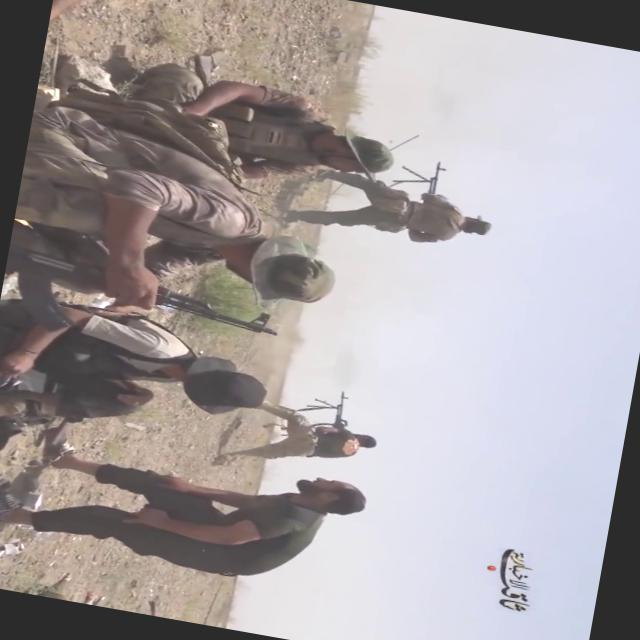long weapon: (0, 227, 306, 374), (302, 384, 368, 436), (388, 153, 458, 199)
